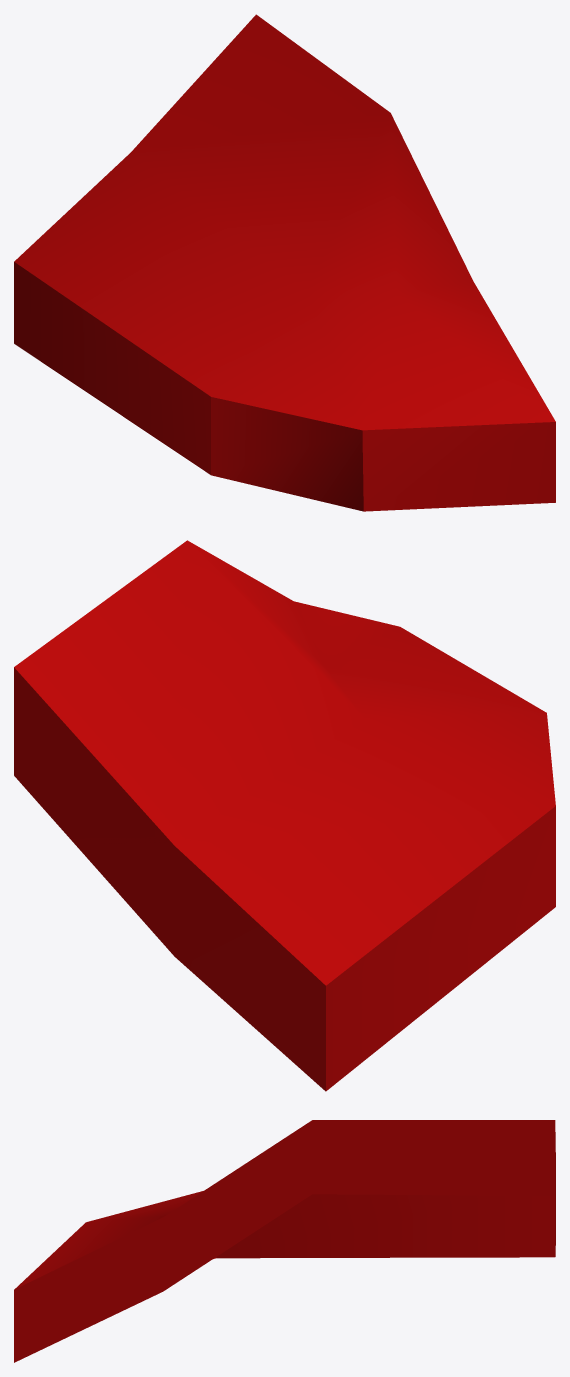
The model's file is n_venetian_market_stand_03_cloth_lod2.glb.
3 views of the same model, one above another, from view 1: azimuth 30°, elevation 25°; view 2: azimuth 150°, elevation 25°; view 3: azimuth 270°, elevation 25° (orthographic). The views are drawn at different scales.
Parts seen in each view (by area): view 1: MODEL_n_venetian_market_stand_03_cloth_lod2; view 2: MODEL_n_venetian_market_stand_03_cloth_lod2; view 3: MODEL_n_venetian_market_stand_03_cloth_lod2.
Boxes of the visible parts, x1,y1,x2,y2 form: MODEL_n_venetian_market_stand_03_cloth_lod2: (14,14,555,511); MODEL_n_venetian_market_stand_03_cloth_lod2: (14,540,555,1091); MODEL_n_venetian_market_stand_03_cloth_lod2: (14,1120,555,1362).
Bounding box in the file's own units: 0.3545 × 0.3781 × 0.7612.
